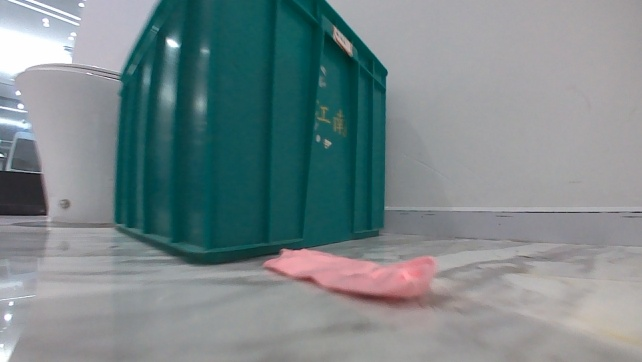socks: (260, 245, 438, 299)
toilet: (11, 60, 124, 229)
